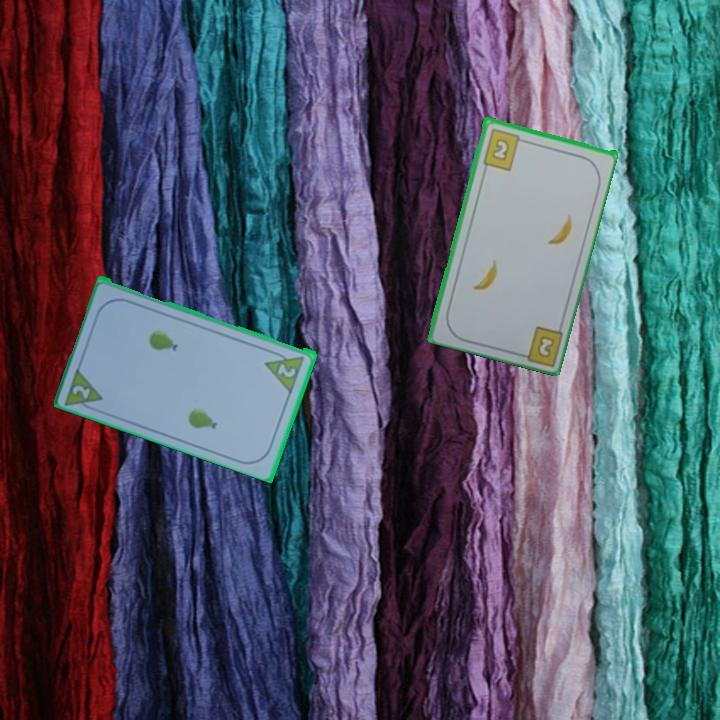2b: (479, 125, 528, 173), (533, 332, 557, 360)
2p: (69, 381, 94, 402), (274, 360, 299, 380)
